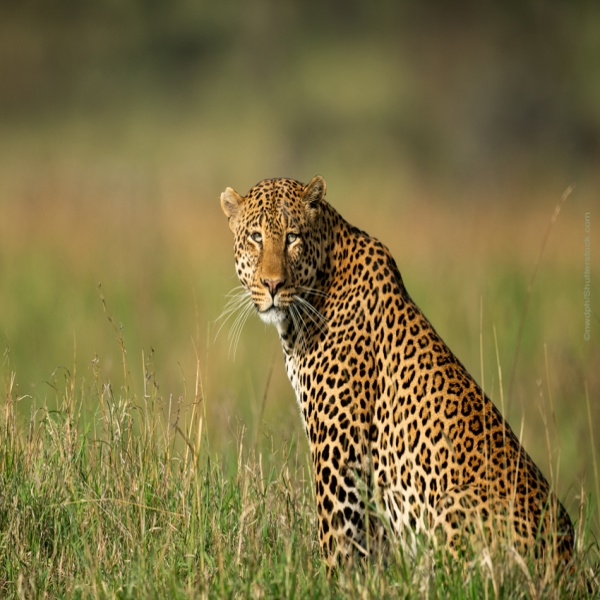Leopard: (217, 172, 597, 591)
